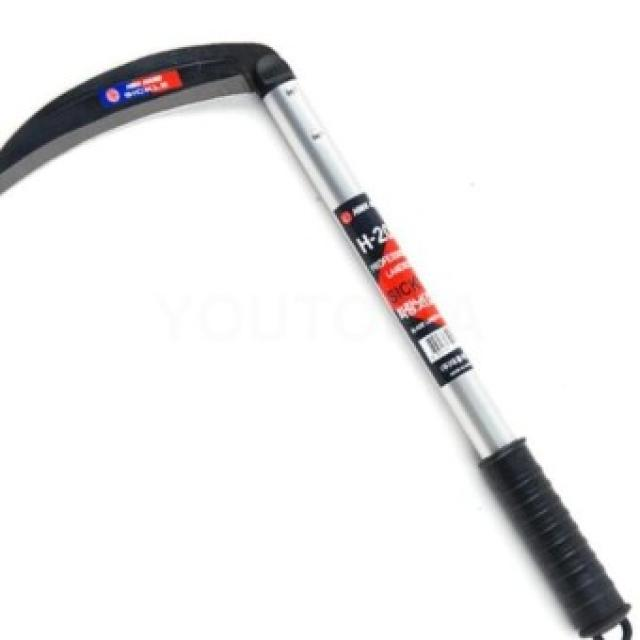sickle: (9, 55, 640, 639)
